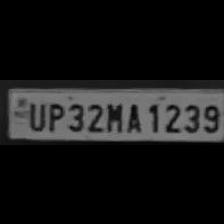1: (144, 98, 160, 132)
2: (160, 100, 182, 134), (84, 98, 104, 132)
3: (64, 99, 84, 131), (180, 100, 200, 132)
9: (200, 100, 220, 132)
A: (124, 98, 144, 132)
M: (104, 98, 124, 132)
P: (44, 98, 64, 132)
U: (26, 98, 44, 130)
